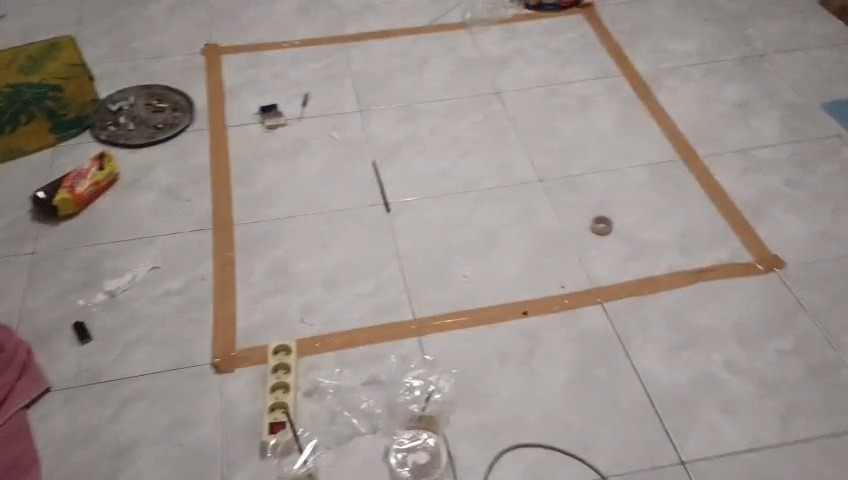floor marking: (297, 5, 785, 354), (203, 22, 464, 372)
